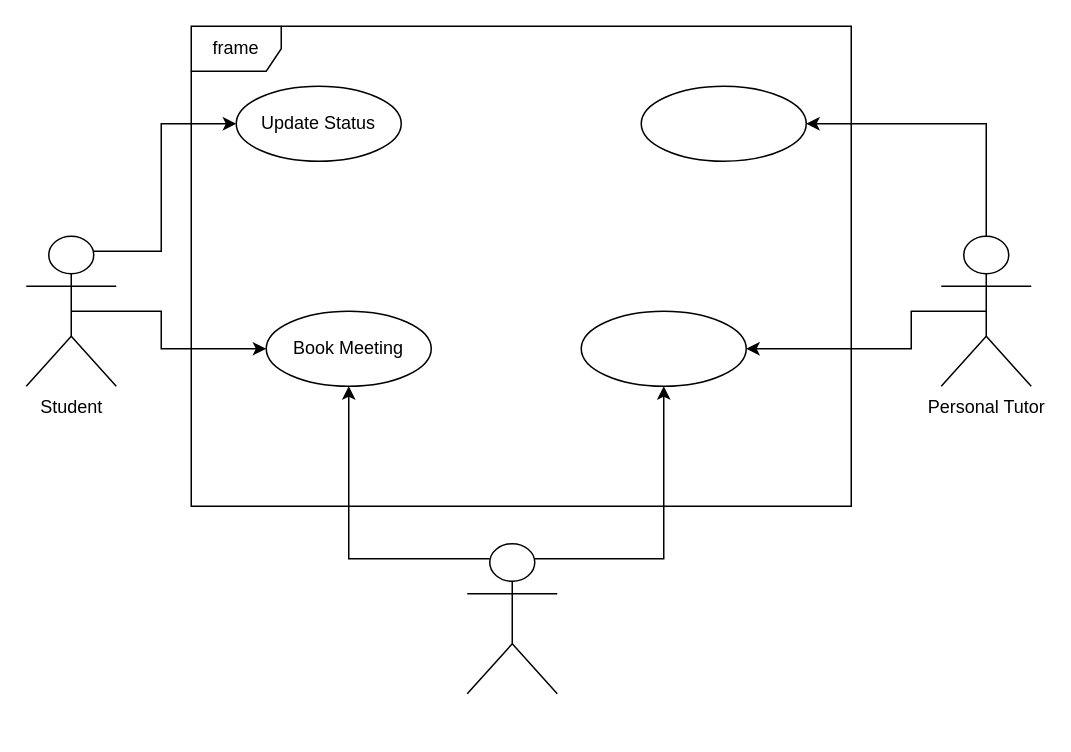
Some shapes in this 1071 by 752 pixel diagram are drawn without their labels. Each missing label, with the centre of its shape:
"Monitor Meetings" belongs at point 723,123.
"Personal Supervisor" belongs at point 511,618.
"Review Status" belongs at point 663,348.
